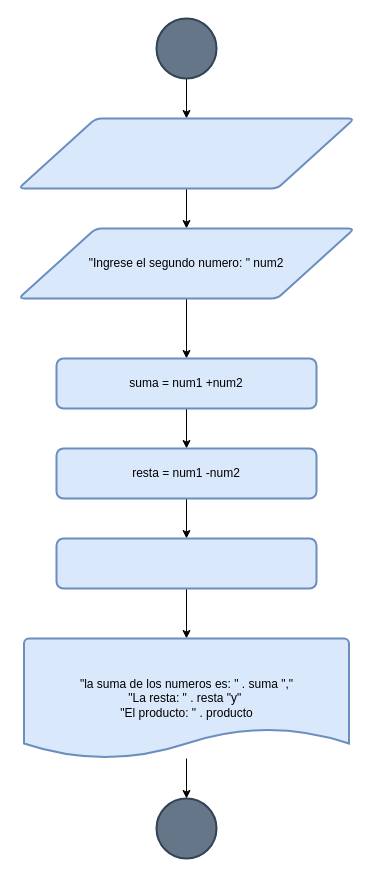
The diagram is 372 pixels wide and 876 high, and some of its shapes have lost their labels. Each missing label, with the centre of its shape:
"Ingrese el primer numero: " num1: (186,153)
producto = num1 * num2: (186,563)
